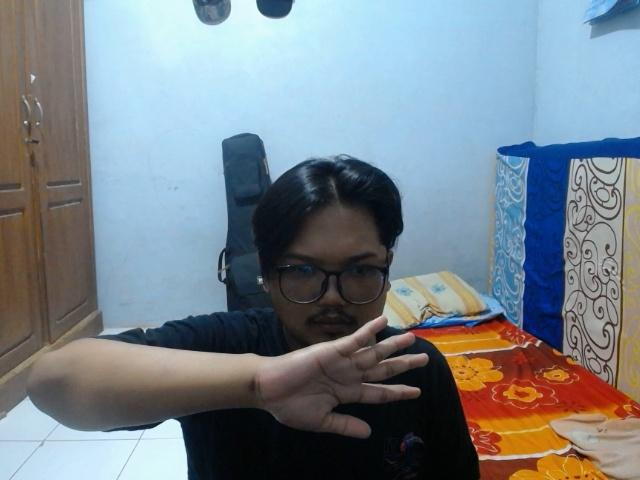Release: (256, 310, 431, 442)
